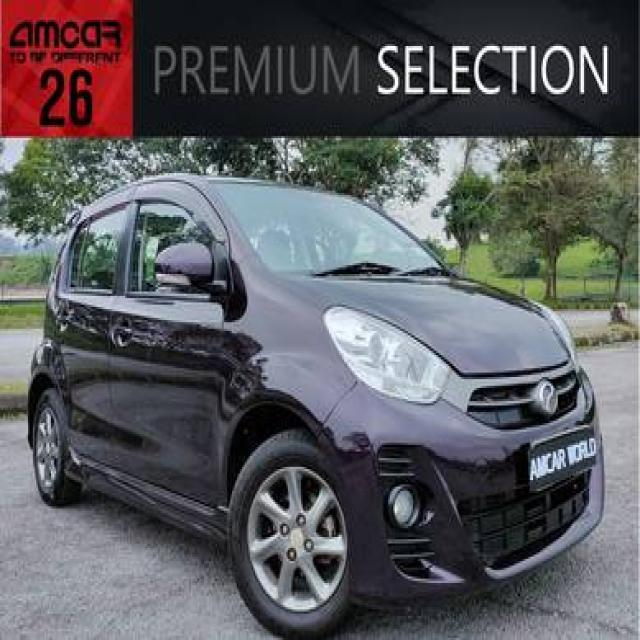PeroduaMyvi: (24, 169, 606, 638)
